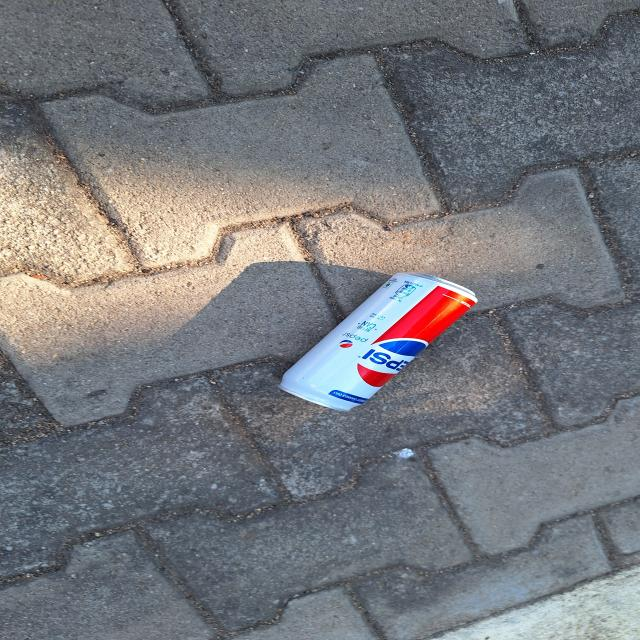Pepsi Retro: (274, 269, 481, 412)
